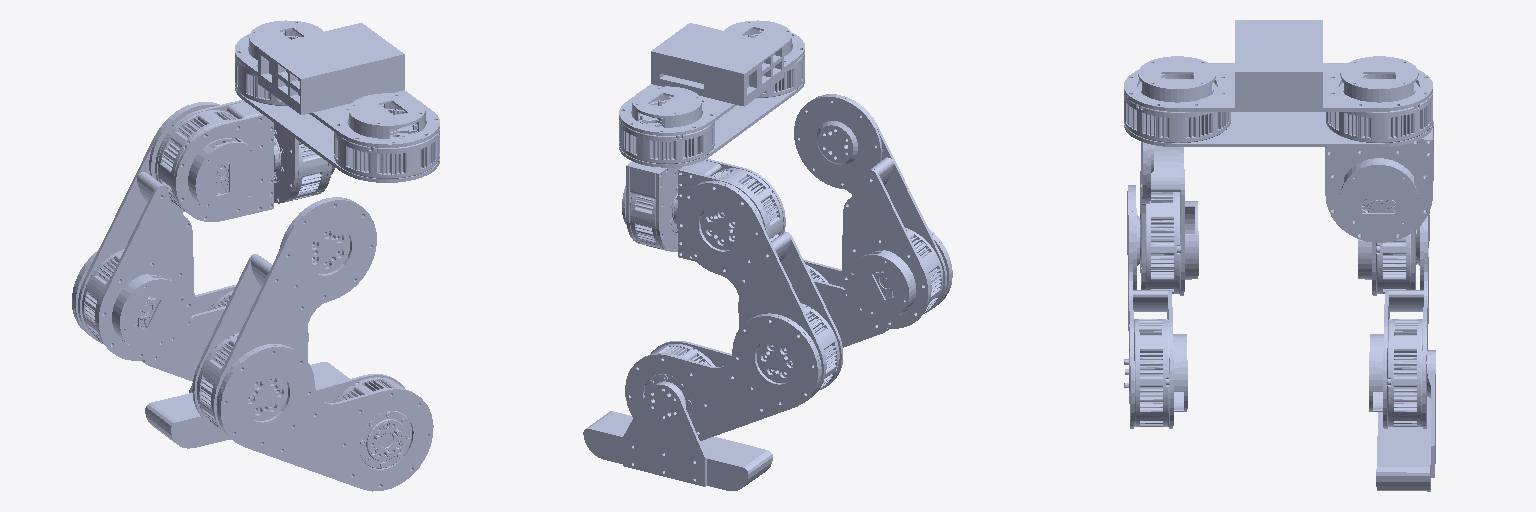
The robot description file, URDF, robot "openduckpro2":
<?xml version="1.0" encoding="utf-8"?>
<!-- This URDF was automatically created by SolidWorks to URDF Exporter! Originally created by Stephen Brawner (brawner@gmail.com)
     Commit Version: 1.6.0-4-g7f85cfe  Build Version: 1.6.7995.38578
     For more information, please see http://wiki.ros.org/sw_urdf_exporter -->
<robot
  name="openduckpro2">
  <link
    name="base_link">
    <inertial>
      <origin
        xyz="-0.00141080550252965 0 0.0266358869045288"
        rpy="0 0 0" />
      <mass
        value="1.38" />
      <inertia
        ixx="0.00179049"
        ixy="0"
        ixz="0.00001246"
        iyy="0.00039624"
        iyz="0"
        izz="0.00187534" />
    </inertial>
    <visual>
      <origin
        xyz="0 0 0"
        rpy="0 0 0" />
      <geometry>
        <mesh
          filename="../meshes/base_link.STL" />
      </geometry>
      <material
        name="">
        <color
          rgba="0.792156862745098 0.819607843137255 0.933333333333333 1" />
      </material>
    </visual>
    <collision>
      <origin
        xyz="0 0 0"
        rpy="0 0 0" />
      <geometry>
        <mesh
          filename="../meshes/base_link.STL" />
      </geometry>
    </collision>
  </link>
  <link
    name="left_leg_yaw_link">
    <inertial>
      <origin
        xyz="-0.000168509325045557 0.000746362761765561 -0.0417397454040535"
        rpy="0 0 0" />
      <mass
        value="0.48200000" />
      <inertia
        ixx="0.00016435"
        ixy="-0.00000073"
        ixz="-0.00000093"
        iyy="0.00010408"
        iyz="-0.00000016"
        izz="0.00009129" />
    </inertial>
    <visual>
      <origin
        xyz="0 0 0"
        rpy="0 0 0" />
      <geometry>
        <mesh
          filename="../meshes/left_leg_yaw_link.STL" />
      </geometry>
      <material
        name="">
        <color
          rgba="0.792156862745098 0.819607843137255 0.933333333333333 1" />
      </material>
    </visual>
    <collision>
      <origin
        xyz="0 0 0"
        rpy="0 0 0" />
      <geometry>
        <mesh
          filename="../meshes/left_leg_yaw_link.STL" />
      </geometry>
    </collision>
  </link>
  <joint
    name="left_leg_yaw_joint"
    type="revolute">
    <origin
      xyz="0 0.075 -0.0005"
      rpy="0 0 1.5666" />
    <parent
      link="base_link" />
    <child
      link="left_leg_yaw_link" />
    <axis
      xyz="0 0 1" />
    <limit
      lower="-2"
      upper="2"
      effort="30"
      velocity="21" />
  </joint>
  <link
    name="left_leg_roll_link">
    <inertial>
      <origin
        xyz="0.000744845290186466 0.0001750947555509 -0.0417397453817851"
        rpy="0 0 0" />
      <mass
        value="0.48200000" />
      <inertia
        ixx="0.00009132"
        ixy="0.00000188"
        ixz="0.00000018"
        iyy="0.00016433"
        iyz="0.00000005"
        izz="0.00010407" />
    </inertial>
    <visual>
      <origin
        xyz="0 0 0"
        rpy="0 0 0" />
      <geometry>
        <mesh
          filename="../meshes/left_leg_roll_link.STL" />
      </geometry>
      <material
        name="">
        <color
          rgba="0.792156862745098 0.819607843137255 0.933333333333333 1" />
      </material>
    </visual>
    <collision>
      <origin
        xyz="0 0 0"
        rpy="0 0 0" />
      <geometry>
        <mesh
          filename="../meshes/left_leg_roll_link.STL" />
      </geometry>
    </collision>
  </link>
  <joint
    name="left_leg_roll_joint"
    type="revolute">
    <origin
      xyz="0.00014573 0.016499 -0.049"
      rpy="1.5708 0 -0.0088323" />
    <parent
      link="left_leg_yaw_link" />
    <child
      link="left_leg_roll_link" />
    <axis
      xyz="0 0 1" />
    <limit
      lower="-2"
      upper="2"
      effort="30"
      velocity="21" />
  </joint>
  <link
    name="left_leg_pitch_link">
    <inertial>
      <origin
        xyz="-0.0476473292738206 -0.0769900006807549 0.00428321304072461"
        rpy="0 0 0" />
      <mass
        value="0.59500000" />
      <inertia
        ixx="0.00041776"
        ixy="-0.00001490"
        ixz="-0.00016045"
        iyy="0.00056091"
        iyz="-0.00002449"
        izz="0.00018412" />
    </inertial>
    <visual>
      <origin
        xyz="0 0 0"
        rpy="0 0 0" />
      <geometry>
        <mesh
          filename="../meshes/left_leg_pitch_link.STL" />
      </geometry>
      <material
        name="">
        <color
          rgba="0.792156862745098 0.819607843137255 0.933333333333333 1" />
      </material>
    </visual>
    <collision>
      <origin
        xyz="0 0 0"
        rpy="0 0 0" />
      <geometry>
        <mesh
          filename="../meshes/left_leg_pitch_link.STL" />
      </geometry>
    </collision>
  </link>
  <joint
    name="left_leg_pitch_joint"
    type="revolute">
    <origin
      xyz="0.0165 0 -0.049"
      rpy="0 -1.5708 0" />
    <parent
      link="left_leg_roll_link" />
    <child
      link="left_leg_pitch_link" />
    <axis
      xyz="0 0 1" />
    <limit
      lower="-2"
      upper="2"
      effort="30"
      velocity="21" />
  </joint>
  <link
    name="left_knee_pitch_link">
    <inertial>
      <origin
        xyz="0.0769900006831681 -0.0476473292752241 0.00428321304107685"
        rpy="0 0 0" />
      <mass
        value="0.59500000" />
      <inertia
        ixx="0.00018488"
        ixy="0.00003146"
        ixz="0.00015989"
        iyy="0.00055974"
        iyz="-0.00001884"
        izz="0.00041817" />
    </inertial>
    <visual>
      <origin
        xyz="0 0 0"
        rpy="0 0 0" />
      <geometry>
        <mesh
          filename="../meshes/left_knee_pitch_link.STL" />
      </geometry>
      <material
        name="">
        <color
          rgba="0.792156862745098 0.819607843137255 0.933333333333333 1" />
      </material>
    </visual>
    <collision>
      <origin
        xyz="0 0 0"
        rpy="0 0 0" />
      <geometry>
        <mesh
          filename="../meshes/left_knee_pitch_link.STL" />
      </geometry>
    </collision>
  </link>
  <joint
    name="left_knee_pitch_joint"
    type="revolute">
    <origin
      xyz="-0.06 -0.10392 -0.0095"
      rpy="0 0 0" />
    <parent
      link="left_leg_pitch_link" />
    <child
      link="left_knee_pitch_link" />
    <axis
      xyz="0 0 1" />
    <limit
      lower="-2"
      upper="2"
      effort="30"
      velocity="21" />
  </joint>
  <link
    name="left_ankle_pitch_link">
    <inertial>
      <origin
        xyz="-0.000135018905672298 -0.0514949406389236 0.0148389070782686"
        rpy="0 0 0" />
      <mass
        value="0.10200000" />
      <inertia
        ixx="0.00005446"
        ixy="0.00000355"
        ixz="-0.00000017"
        iyy="0.00033166"
        iyz="-0.00000821"
        izz="0.00033135" />
    </inertial>
    <visual>
      <origin
        xyz="0 0 0"
        rpy="0 0 0" />
      <geometry>
        <mesh
          filename="../meshes/left_ankle_pitch_link.STL" />
      </geometry>
      <material
        name="">
        <color
          rgba="0.792156862745098 0.819607843137255 0.933333333333333 1" />
      </material>
    </visual>
    <collision>
      <origin
        xyz="-0.045 -0.061 0.0"
        rpy="0 0 0" />
      <geometry>
        <sphere
          radius="0.006" />
      </geometry>
    </collision>
    <collision>
      <origin
        xyz="-0.045 -0.061 0.031"
        rpy="0 0 0" />
      <geometry>
        <sphere
          radius="0.006" />
      </geometry>
    </collision>
    <collision>
      <origin
        xyz="0.045 -0.061 0.0"
        rpy="0 0 0" />
      <geometry>
        <sphere
          radius="0.006" />
      </geometry>
    </collision>
    <collision>
      <origin
        xyz="0.045 -0.061 0.031"
        rpy="0 0 0" />
      <geometry>
        <sphere
          radius="0.006" />
      </geometry>
    </collision>
  </link>
  <joint
    name="left_ankle_pitch_joint"
    type="revolute">
    <origin
      xyz="0.10392 -0.06 -0.0095"
      rpy="0 0 0" />
    <parent
      link="left_knee_pitch_link" />
    <child
      link="left_ankle_pitch_link" />
    <axis
      xyz="0 0 1" />
    <limit
      lower="-2"
      upper="2"
      effort="30"
      velocity="21" />
  </joint>
  <link
    name="right_leg_yaw_link">
    <inertial>
      <origin
        xyz="-0.000168509325045557 -0.000746362761765561 -0.0417397454040535"
        rpy="0 0 0" />
      <mass
        value="0.48200000" />
      <inertia
        ixx="0.00016435"
        ixy="0.00000073"
        ixz="-0.00000093"
        iyy="0.00010408"
        iyz="0.00000016"
        izz="0.00009129" />
    </inertial>
    <visual>
      <origin
        xyz="0 0 0"
        rpy="0 0 0" />
      <geometry>
        <mesh
          filename="../meshes/right_leg_yaw_link.STL" />
      </geometry>
      <material
        name="">
        <color
          rgba="0.792156862745098 0.819607843137255 0.933333333333333 1" />
      </material>
    </visual>
    <collision>
      <origin
        xyz="0 0 0"
        rpy="0 0 0" />
      <geometry>
        <mesh
          filename="../meshes/right_leg_yaw_link.STL" />
      </geometry>
    </collision>
  </link>
  <joint
    name="right_leg_yaw_joint"
    type="revolute">
    <origin
      xyz="0 -0.075 -0.0005"
      rpy="0 0 -1.5666" />
    <parent
      link="base_link" />
    <child
      link="right_leg_yaw_link" />
    <axis
      xyz="0 0 1" />
    <limit
      lower="-2"
      upper="2"
      effort="30"
      velocity="21" />
  </joint>
  <link
    name="right_leg_roll_link">
    <inertial>
      <origin
        xyz="0.000744845290186466 -0.0001750947555509 -0.0417397453817851"
        rpy="0 0 0" />
      <mass
        value="0.48200000" />
      <inertia
        ixx="0.00009132"
        ixy="-0.00000188"
        ixz="0.00000018"
        iyy="0.00016433"
        iyz="-0.00000005"
        izz="0.00010407" />
    </inertial>
    <visual>
      <origin
        xyz="0 0 0"
        rpy="0 0 0" />
      <geometry>
        <mesh
          filename="../meshes/right_leg_roll_link.STL" />
      </geometry>
      <material
        name="">
        <color
          rgba="0.792156862745098 0.819607843137255 0.933333333333333 1" />
      </material>
    </visual>
    <collision>
      <origin
        xyz="0 0 0"
        rpy="0 0 0" />
      <geometry>
        <mesh
          filename="../meshes/right_leg_roll_link.STL" />
      </geometry>
    </collision>
  </link>
  <joint
    name="right_leg_roll_joint"
    type="revolute">
    <origin
      xyz="0.00014573 -0.016499 -0.049"
      rpy="-1.5708 0 0.0088323" />
    <parent
      link="right_leg_yaw_link" />
    <child
      link="right_leg_roll_link" />
    <axis
      xyz="0 0 1" />
    <limit
      lower="-2"
      upper="2"
      effort="30"
      velocity="21" />
  </joint>
  <link
    name="right_leg_pitch_link">
    <inertial>
      <origin
        xyz="-0.0476473292738206 0.0769900006807549 0.00428321304072461"
        rpy="0 0 0" />
      <mass
        value="0.59500000" />
      <inertia
        ixx="0.00041776"
        ixy="0.00001490"
        ixz="-0.00016045"
        iyy="0.00056091"
        iyz="0.00002449"
        izz="0.00018412" />
    </inertial>
    <visual>
      <origin
        xyz="0 0 0"
        rpy="0 0 0" />
      <geometry>
        <mesh
          filename="../meshes/right_leg_pitch_link.STL" />
      </geometry>
      <material
        name="">
        <color
          rgba="0.792156862745098 0.819607843137255 0.933333333333333 1" />
      </material>
    </visual>
    <collision>
      <origin
        xyz="0 0 0"
        rpy="0 0 0" />
      <geometry>
        <mesh
          filename="../meshes/right_leg_pitch_link.STL" />
      </geometry>
    </collision>
  </link>
  <joint
    name="right_leg_pitch_joint"
    type="revolute">
    <origin
      xyz="0.0165 0 -0.049"
      rpy="0 -1.5708 0" />
    <parent
      link="right_leg_roll_link" />
    <child
      link="right_leg_pitch_link" />
    <axis
      xyz="0 0 1" />
    <limit
      lower="-2"
      upper="2"
      effort="30"
      velocity="21" />
  </joint>
  <link
    name="right_knee_pitch_link">
    <inertial>
      <origin
        xyz="0.0769900006831681 0.0476473292752241 0.00428321304107685"
        rpy="0 0 0" />
      <mass
        value="0.59500000" />
      <inertia
        ixx="0.00018488"
        ixy="-0.00003146"
        ixz="0.00015989"
        iyy="0.00055974"
        iyz="0.00001884"
        izz="0.00041817" />
    </inertial>
    <visual>
      <origin
        xyz="0 0 0"
        rpy="0 0 0" />
      <geometry>
        <mesh
          filename="../meshes/right_knee_pitch_link.STL" />
      </geometry>
      <material
        name="">
        <color
          rgba="0.792156862745098 0.819607843137255 0.933333333333333 1" />
      </material>
    </visual>
    <collision>
      <origin
        xyz="0 0 0"
        rpy="0 0 0" />
      <geometry>
        <mesh
          filename="../meshes/right_knee_pitch_link.STL" />
      </geometry>
    </collision>
  </link>
  <joint
    name="right_knee_pitch_joint"
    type="revolute">
    <origin
      xyz="-0.06 0.10392 -0.0095"
      rpy="0 0 0" />
    <parent
      link="right_leg_pitch_link" />
    <child
      link="right_knee_pitch_link" />
    <axis
      xyz="0 0 1" />
    <limit
      lower="-2"
      upper="2"
      effort="30"
      velocity="21" />
  </joint>
  <link
    name="right_ankle_pitch_link">
    <inertial>
      <origin
        xyz="-0.000135018905672298 0.0514949406389236 0.0148389070782686"
        rpy="0 0 0" />
      <mass
        value="0.10200000" />
      <inertia
        ixx="0.00005446"
        ixy="-0.00000355"
        ixz="-0.00000017"
        iyy="0.00033166"
        iyz="0.00000821"
        izz="0.00033135" />
    </inertial>
    <visual>
      <origin
        xyz="0 0 0"
        rpy="0 0 0" />
      <geometry>
        <mesh
          filename="../meshes/right_ankle_pitch_link.STL" />
      </geometry>
      <material
        name="">
        <color
          rgba="0.792156862745098 0.819607843137255 0.933333333333333 1" />
      </material>
    </visual>
    <collision>
      <origin
        xyz="-0.045 0.061 0.0"
        rpy="0 0 0" />
      <geometry>
        <sphere
          radius="0.006" />
      </geometry>
    </collision>
    <collision>
      <origin
        xyz="-0.045 0.061 0.031"
        rpy="0 0 0" />
      <geometry>
        <sphere
          radius="0.006" />
      </geometry>
    </collision>
    <collision>
      <origin
        xyz="0.045 0.061 0.0"
        rpy="0 0 0" />
      <geometry>
        <sphere
          radius="0.006" />
      </geometry>
    </collision>
    <collision>
      <origin
        xyz="0.045 0.061 0.031"
        rpy="0 0 0" />
      <geometry>
        <sphere
          radius="0.006" />
      </geometry>
    </collision>
  </link>
  <joint
    name="right_ankle_pitch_joint"
    type="revolute">
    <origin
      xyz="0.10392 0.06 -0.0095"
      rpy="0 0 0" />
    <parent
      link="right_knee_pitch_link" />
    <child
      link="right_ankle_pitch_link" />
    <axis
      xyz="0 0 1" />
    <limit
      lower="-2"
      upper="2"
      effort="30"
      velocity="21" />
  </joint>
</robot>

--- What the picture shows (computed from the rendered views, not written in the file) ---
The picture shows the robot from 3 angles, left to right: view 1: azimuth 30°, elevation 25°; view 2: azimuth 150°, elevation 25°; view 3: azimuth 270°, elevation 25°; orthographic projection.
Robot: openduckpro2 — 11 links, 10 joints (10 revolute); root link base_link; default pose: every joint at zero.
Links seen in each view (by area): view 1: base_link, right_knee_pitch_link, right_leg_pitch_link, left_leg_pitch_link, left_leg_roll_link, left_knee_pitch_link, left_ankle_pitch_link, left_leg_yaw_link; view 2: right_leg_pitch_link, base_link, left_knee_pitch_link, left_leg_pitch_link, left_ankle_pitch_link, left_leg_yaw_link, left_leg_roll_link, right_knee_pitch_link; view 3: base_link, left_leg_yaw_link, right_knee_pitch_link, left_knee_pitch_link, right_leg_pitch_link, left_ankle_pitch_link, left_leg_pitch_link.
Boxes of the visible links, bbox=[...] form: base_link: bbox=[235, 20, 439, 182]; right_knee_pitch_link: bbox=[216, 344, 433, 491]; right_leg_pitch_link: bbox=[192, 197, 376, 436]; left_leg_pitch_link: bbox=[78, 102, 219, 360]; left_leg_roll_link: bbox=[155, 100, 279, 221]; left_knee_pitch_link: bbox=[72, 251, 308, 381]; left_ankle_pitch_link: bbox=[145, 362, 349, 448]; left_leg_yaw_link: bbox=[274, 123, 334, 203]; right_leg_pitch_link: bbox=[794, 94, 946, 328]; base_link: bbox=[619, 20, 804, 167]; left_knee_pitch_link: bbox=[625, 313, 821, 440]; left_leg_pitch_link: bbox=[676, 180, 842, 397]; left_ankle_pitch_link: bbox=[583, 382, 772, 490]; left_leg_yaw_link: bbox=[622, 158, 707, 251]; left_leg_roll_link: bbox=[674, 159, 785, 261]; right_knee_pitch_link: bbox=[738, 229, 952, 347]; base_link: bbox=[1124, 20, 1432, 146]; left_leg_yaw_link: bbox=[1325, 121, 1433, 242]; right_knee_pitch_link: bbox=[1124, 185, 1187, 428]; left_knee_pitch_link: bbox=[1369, 212, 1429, 428]; right_leg_pitch_link: bbox=[1140, 141, 1198, 295]; left_ankle_pitch_link: bbox=[1376, 350, 1435, 491]; left_leg_pitch_link: bbox=[1358, 230, 1416, 295].
Bounding box of the posed robot: 0.2258 × 0.2323 × 0.3424 m (x, y, z).
Meshes: 11 distinct files referenced, 8 mesh visuals loaded (8 binary STL); not drawn: 3 (reference not matched to a file when rendering).
